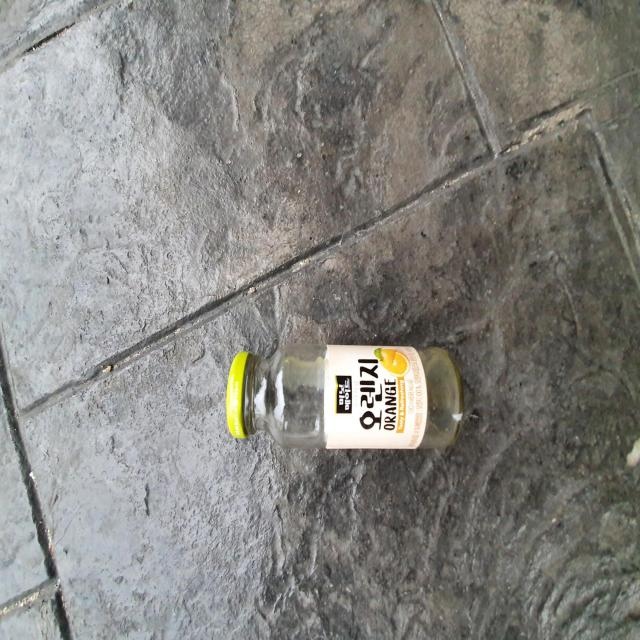glass: (227, 344, 464, 449)
